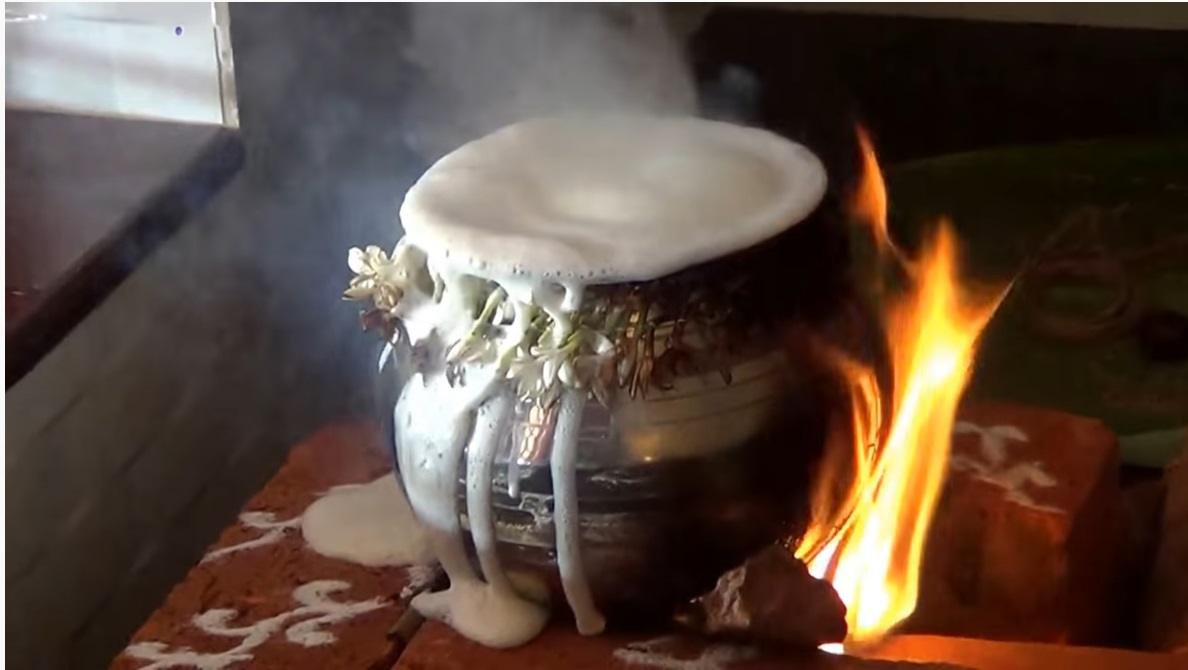Boiled: (349, 104, 825, 633)
